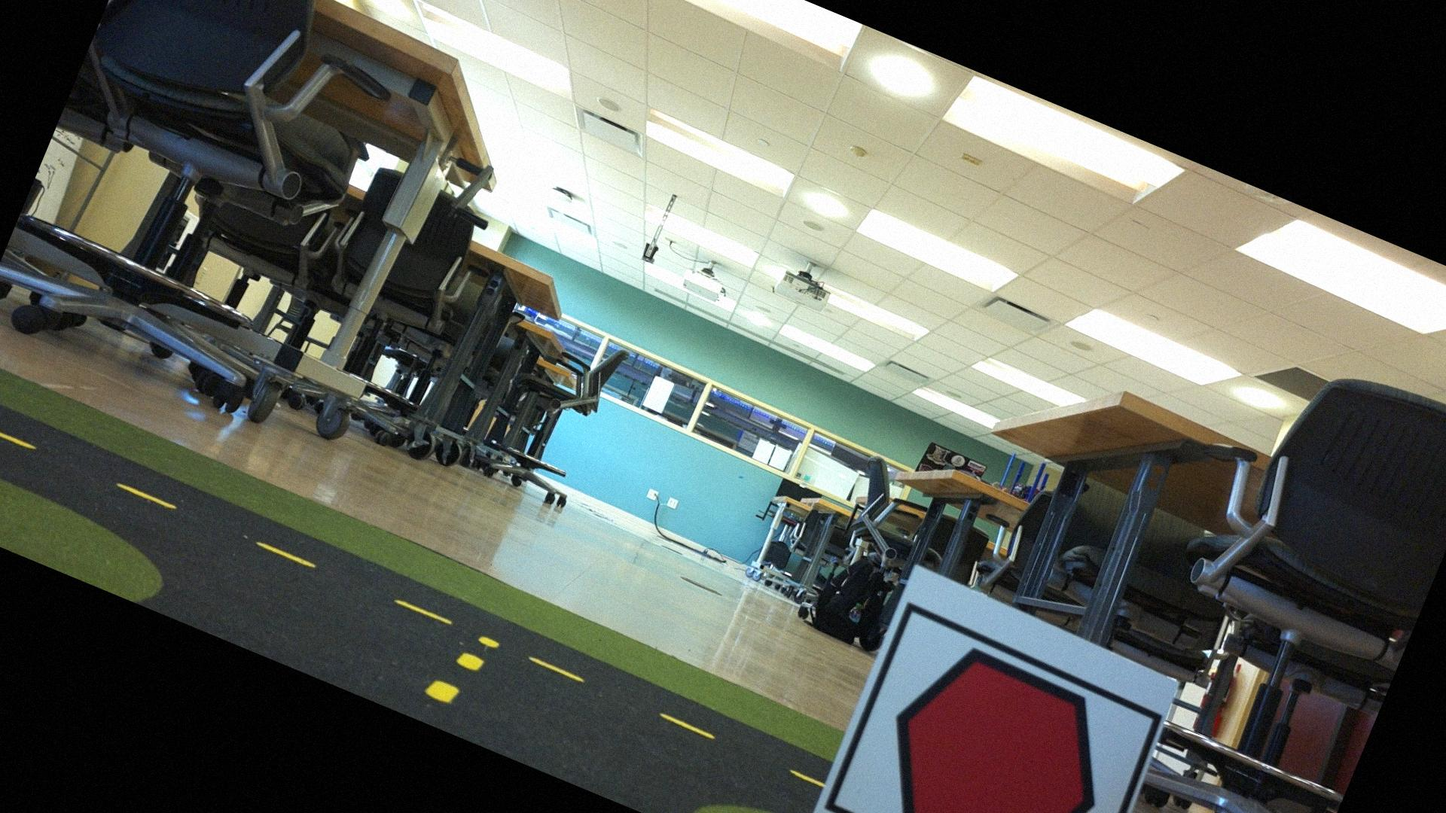stop: (843, 620, 1149, 812)
yellowline: (423, 621, 499, 715)
